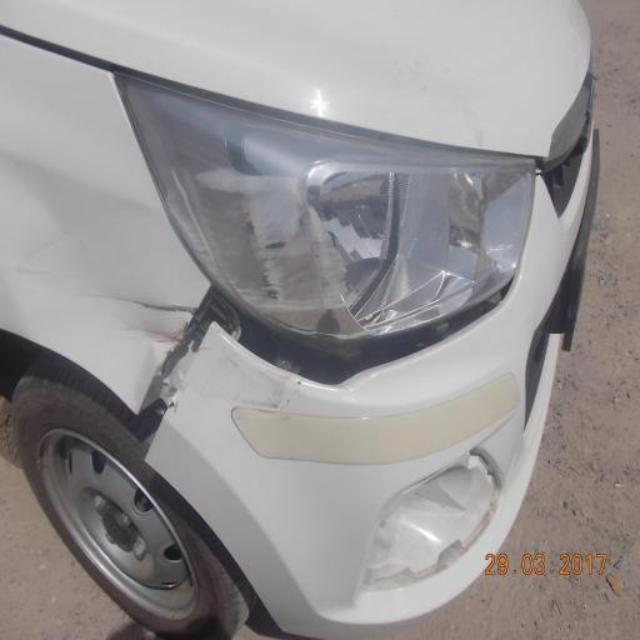dislocated part: (66, 267, 521, 463)
